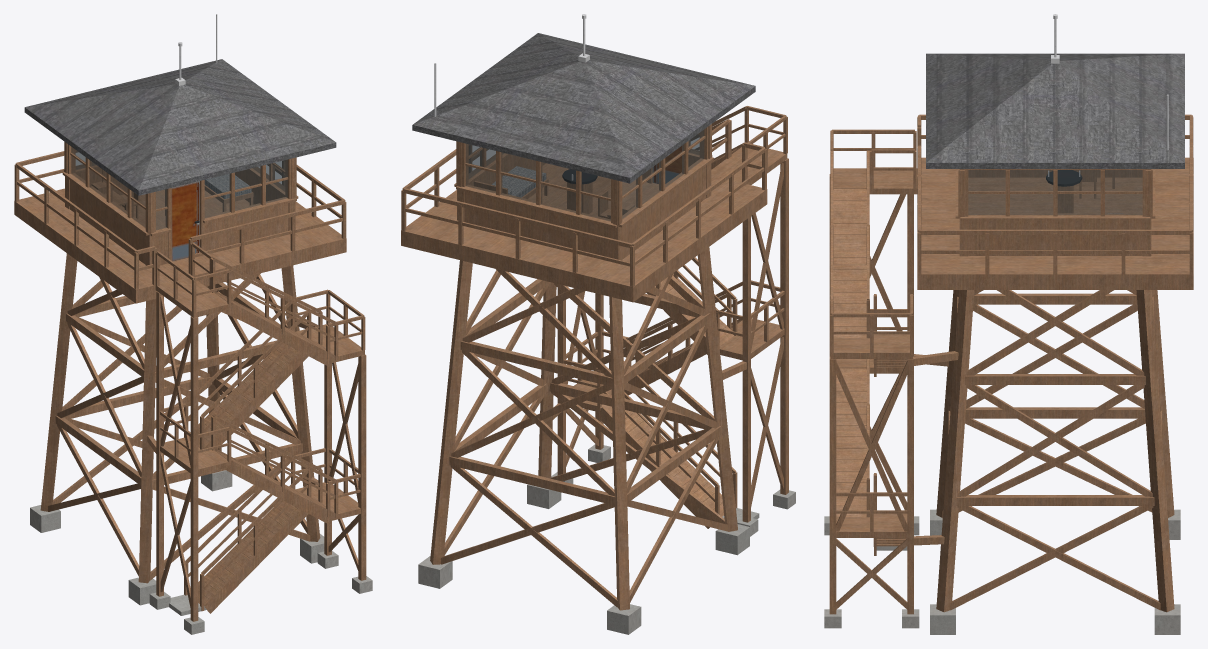
File: FirewatchTower.fbx
The picture shows the model from 3 angles, left to right: view 1: azimuth 30°, elevation 25°; view 2: azimuth 150°, elevation 25°; view 3: azimuth 270°, elevation 25°; orthographic projection. The views are drawn at different scales.
Parts seen in each view (by area): view 1: FT_Legs, FT_Roof, FT_Stairs_Frame, FT_Stairs_Railing, FT_Deck, FT_Cabin_Walls, FT_Deck_Railing, COL_Stairs_Ramps, FT_Cabin_Glass, FT_Stairs_Steps, FT_Footings, FT_Cabin_Door (+1 smaller); view 2: FT_Legs, FT_Roof, FT_Deck, FT_Stairs_Frame, FT_Cabin_Walls, FT_Cabin_Glass, FT_Deck_Railing, FT_Stairs_Railing, FT_Footings, FT_Stairs_Steps, COL_Stairs_Ramps, FT_Interior_Bed (+1 smaller); view 3: FT_Legs, FT_Roof, FT_Deck, FT_Stairs_Frame, FT_Cabin_Walls, COL_Stairs_Ramps, FT_Cabin_Glass, FT_Stairs_Steps, FT_Stairs_Railing, FT_Deck_Railing, FT_Footings, FT_Interior_FireFinder.
Boxes of the visible parts, x1,y1,x2,y2 form: FT_Legs: (40, 253, 320, 583); FT_Roof: (24, 59, 336, 195); FT_Stairs_Frame: (147, 291, 372, 634); FT_Stairs_Railing: (155, 242, 365, 611); FT_Deck: (14, 188, 346, 303); FT_Cabin_Walls: (62, 142, 298, 265); FT_Deck_Railing: (14, 151, 346, 289); COL_Stairs_Ramps: (189, 292, 335, 606); FT_Cabin_Glass: (71, 147, 287, 229); FT_Stairs_Steps: (155, 277, 364, 598); FT_Footings: (30, 470, 324, 605); FT_Cabin_Door: (171, 181, 199, 261); FT_Legs: (430, 247, 737, 610); FT_Roof: (412, 33, 755, 183); FT_Deck: (401, 163, 767, 302); FT_Stairs_Frame: (551, 143, 795, 536); FT_Cabin_Walls: (454, 124, 713, 260); FT_Cabin_Glass: (466, 130, 704, 221); FT_Deck_Railing: (401, 134, 766, 286); FT_Stairs_Railing: (563, 106, 787, 521); FT_Footings: (418, 484, 749, 634); FT_Stairs_Steps: (567, 147, 787, 509); COL_Stairs_Ramps: (600, 146, 742, 521); FT_Interior_Bed: (474, 166, 548, 198); FT_Legs: (936, 290, 1174, 612); FT_Roof: (926, 53, 1184, 168); FT_Deck: (917, 157, 1193, 289); FT_Stairs_Frame: (824, 174, 958, 628); FT_Cabin_Walls: (955, 169, 1155, 256); COL_Stairs_Ramps: (833, 189, 866, 516); FT_Cabin_Glass: (968, 170, 1142, 214); FT_Stairs_Steps: (830, 168, 917, 546); FT_Stairs_Railing: (830, 129, 916, 546); FT_Deck_Railing: (917, 114, 1193, 274); FT_Footings: (930, 509, 1180, 634); FT_Interior_FireFinder: (1046, 170, 1082, 213).
Size of the model in its own units: 6.4 by 14.52 by 8.55.
